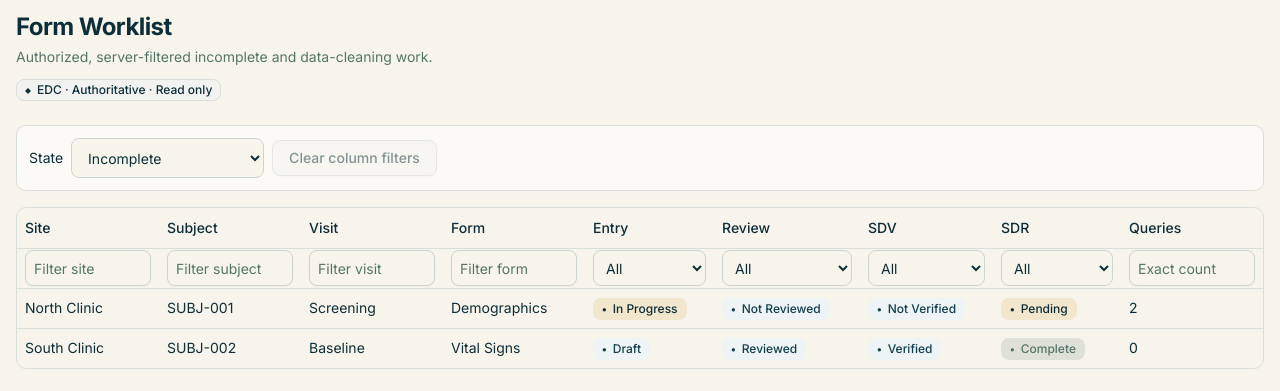
Test: EDC study workspaces › filters the form worklist independently by every displayed column
Check: the text "SUBJ-001" is shown, box [159,288,301,328]
Check: the field named "Filter by site" is shown, box [25,250,151,286]
Type "002" into the field named "Filter by subject" at (230, 268), box [167,250,293,286]
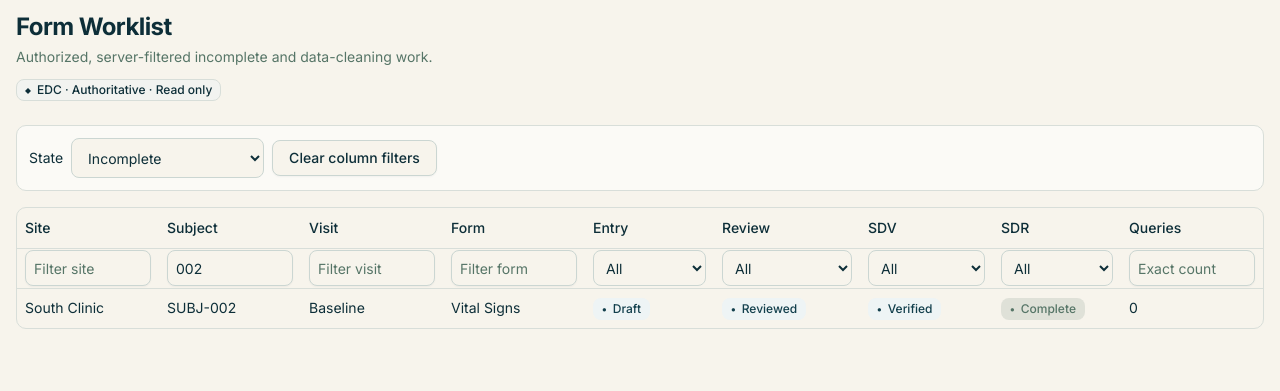
Check: the text "SUBJ-002" is shown, box [159,288,301,328]
Check: the text "SUBJ-001" is gone
Select "Not Reviewed" in the dropdown named "Filter by review" at (787, 268), box [722,250,852,286]
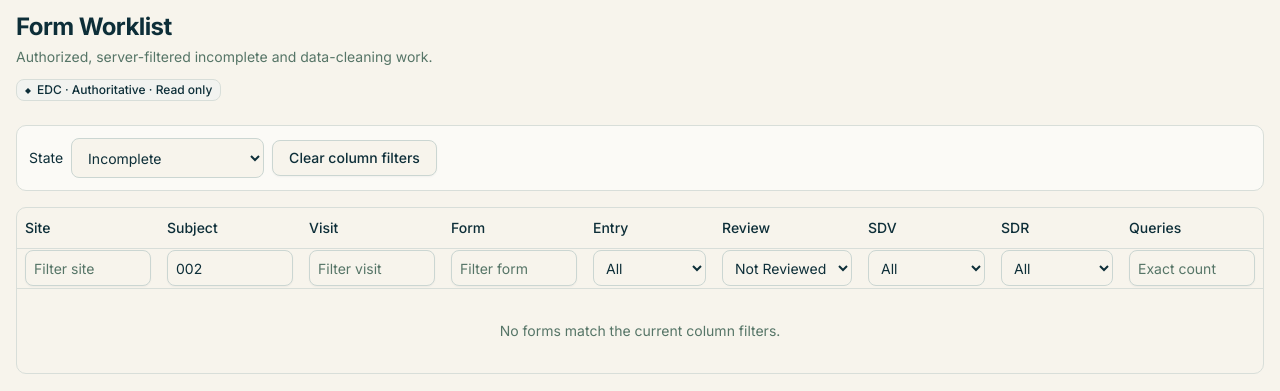
Check: the text "No forms match the current column filters." is shown, box [17,288,1263,372]
Click the button "Clear column filters" at (354, 158), box [272,140,437,176]
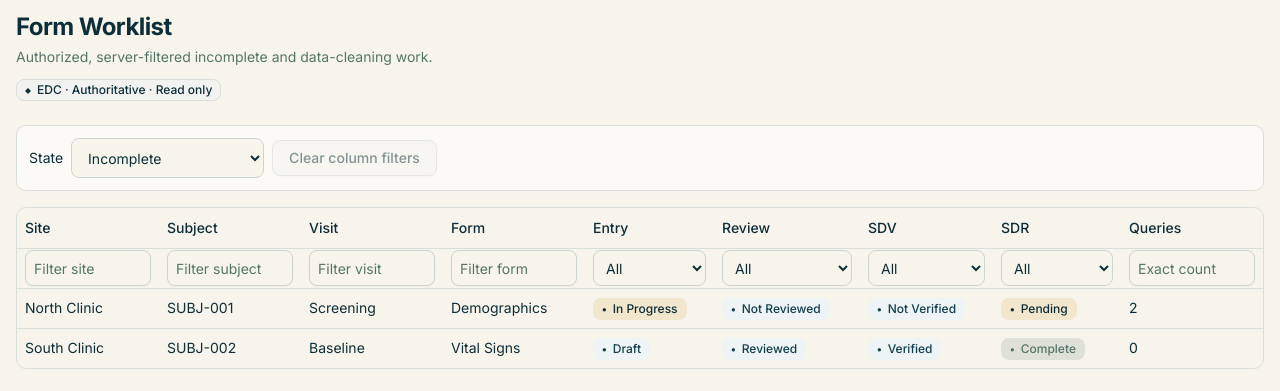
Check: the text "SUBJ-001" is shown, box [159,288,301,328]
Check: the text "SUBJ-002" is shown, box [159,328,301,368]
